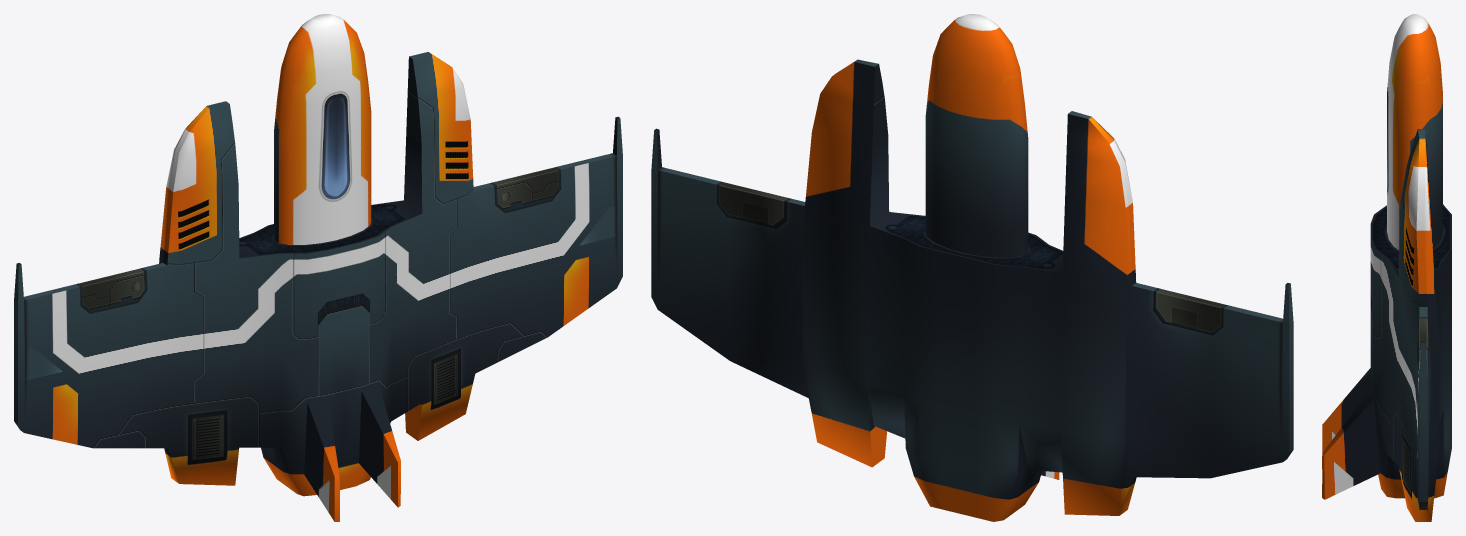
Rendered from ship.obj.
3 views of the same model, side by side, from view 1: azimuth 30°, elevation 25°; view 2: azimuth 150°, elevation 25°; view 3: azimuth 270°, elevation 25° (orthographic). The views are drawn at different scales.
Visible parts, largest first — view 1: Box001; view 2: Box001; view 3: Box001.
Part boxes in pixels (left/top/right/bottom): Box001: left=14, top=14, right=622, bottom=521; Box001: left=651, top=14, right=1293, bottom=521; Box001: left=1322, top=14, right=1451, bottom=521.
Bounding box in the file's own units: 12.26 × 8.98 × 2.27.
